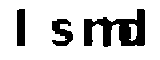d: (120, 7, 153, 50)
l: (14, 6, 37, 53)
m: (79, 18, 125, 50)
s: (47, 17, 74, 47)
